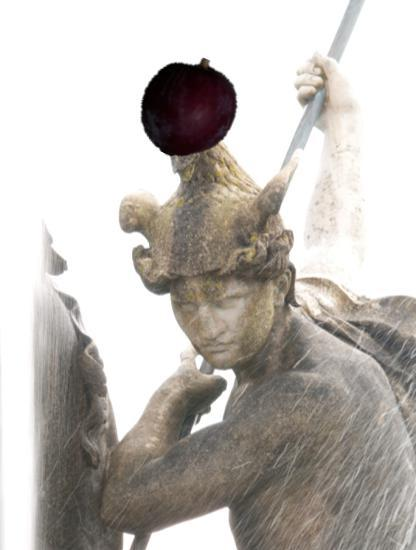Plum: (137, 56, 240, 159)
